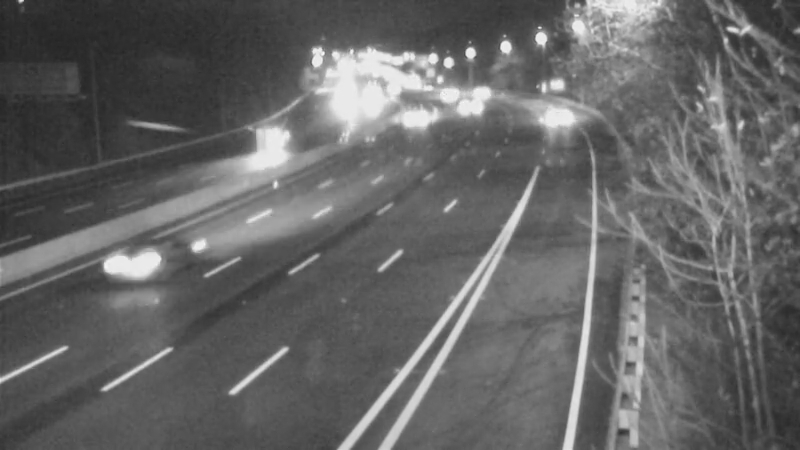vehicle: (96, 224, 176, 304), (417, 69, 467, 119), (455, 64, 505, 114), (443, 85, 493, 135), (528, 87, 578, 137), (389, 88, 439, 138), (245, 121, 295, 171), (343, 79, 393, 129)
